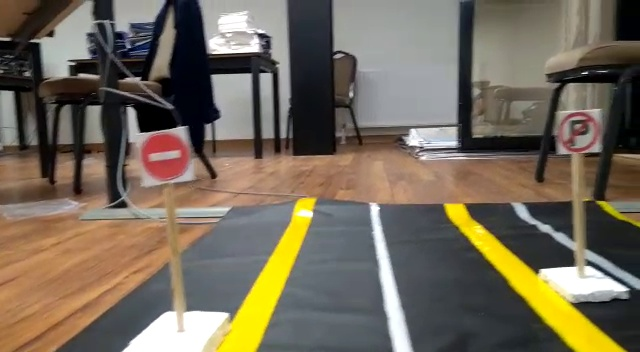girisi_olmayan_yol: (139, 131, 190, 182)
park_yapilmaz: (554, 109, 601, 154)
